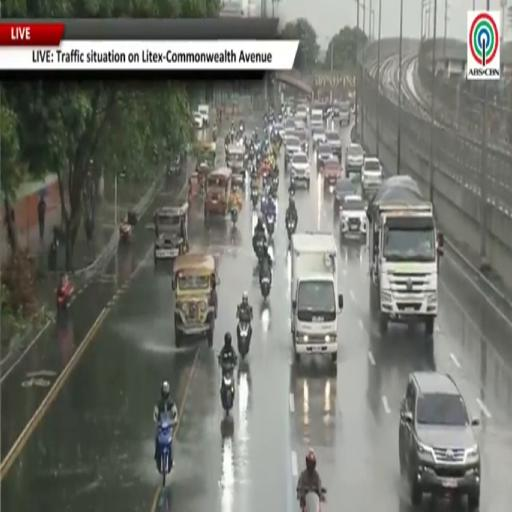car: (399, 372, 480, 510), (340, 195, 367, 239), (361, 157, 383, 197), (334, 179, 357, 214), (290, 152, 310, 189), (345, 143, 364, 177), (323, 156, 342, 187), (285, 135, 301, 170), (326, 131, 341, 162), (316, 142, 332, 171), (312, 125, 326, 149), (295, 130, 308, 153), (338, 102, 350, 125), (295, 104, 307, 125), (273, 123, 284, 138), (194, 112, 203, 130), (285, 118, 295, 132), (295, 118, 305, 131)
jeepney: (173, 254, 218, 347), (154, 203, 188, 264), (204, 168, 232, 218), (227, 144, 246, 184), (227, 144, 244, 172), (198, 142, 216, 168)
motorcycle: (158, 419, 173, 487), (221, 367, 235, 415), (301, 488, 326, 511), (237, 322, 251, 360), (57, 281, 73, 312), (119, 222, 133, 244), (255, 236, 265, 261), (266, 214, 275, 237), (261, 276, 270, 299), (286, 219, 296, 239), (230, 207, 238, 227), (251, 189, 258, 209), (272, 173, 279, 188), (212, 129, 217, 142)
truck: (367, 175, 443, 335), (291, 232, 343, 362), (198, 104, 209, 127)
